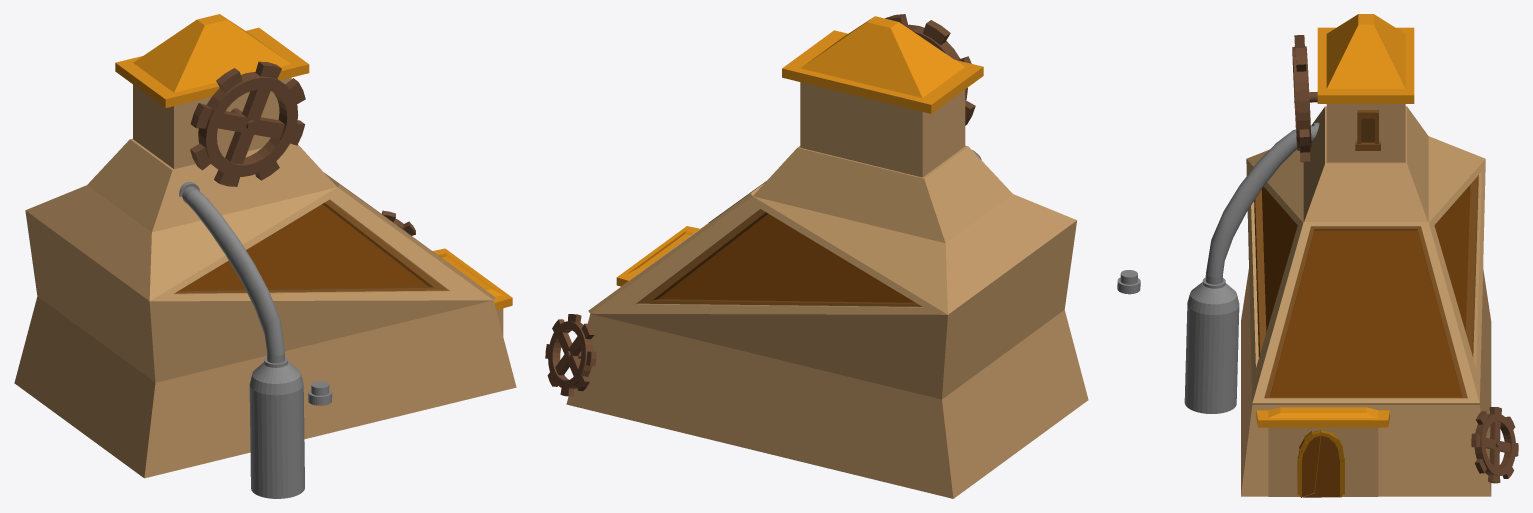
The model's file is Church_Design_1.fbx.
The picture shows the model from 3 angles, left to right: view 1: azimuth 30°, elevation 25°; view 2: azimuth 150°, elevation 25°; view 3: azimuth 270°, elevation 25°; orthographic projection. The views are drawn at different scales.
Parts seen in each view (by area): view 1: Cube, Cylinder.320, Cylinder.877, Cylinder.001, Cube.001; view 2: Cube, Cylinder.003, Cylinder.320, Cube.001; view 3: Cube, Cube.001, Cylinder.877, Cylinder.001, Cube.522, Cylinder.003, Cylinder.320, Cube.510, Cylinder.002.
Part boxes in pixels (<box>): Cube: <box>14,14,516,478</box>; Cylinder.320: <box>190,61,305,186</box>; Cylinder.877: <box>249,361,304,498</box>; Cylinder.001: <box>179,181,287,367</box>; Cube.001: <box>432,248,512,335</box>; Cube: <box>566,16,1088,498</box>; Cylinder.003: <box>545,314,596,396</box>; Cylinder.320: <box>885,14,975,125</box>; Cube.001: <box>616,226,699,286</box>; Cube: <box>1241,14,1491,496</box>; Cube.001: <box>1256,407,1389,496</box>; Cylinder.877: <box>1184,282,1239,413</box>; Cylinder.001: <box>1202,122,1319,288</box>; Cube.522: <box>1297,430,1344,497</box>; Cylinder.003: <box>1471,407,1518,483</box>; Cylinder.320: <box>1292,35,1311,162</box>; Cube.510: <box>1355,110,1380,150</box>; Cylinder.002: <box>1117,270,1140,294</box>.
Bounding box in the file's own units: 1695 × 1656 × 1539.
